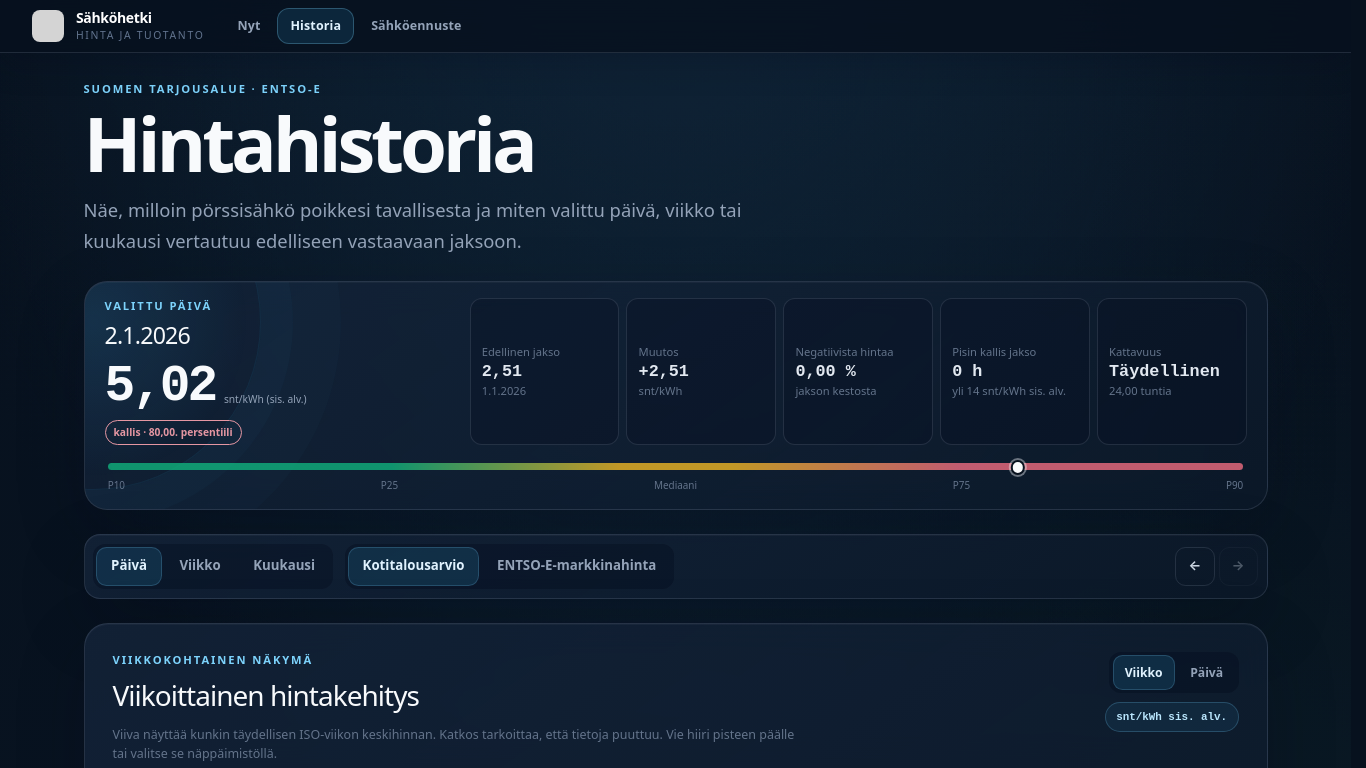
Scenario: switches price basis and period granularity without requesting more data
The image size is (1366, 768).
Click the button "ENTSO-E-markkinahinta": (577, 566) x1=482 y1=547 x2=671 y2=586
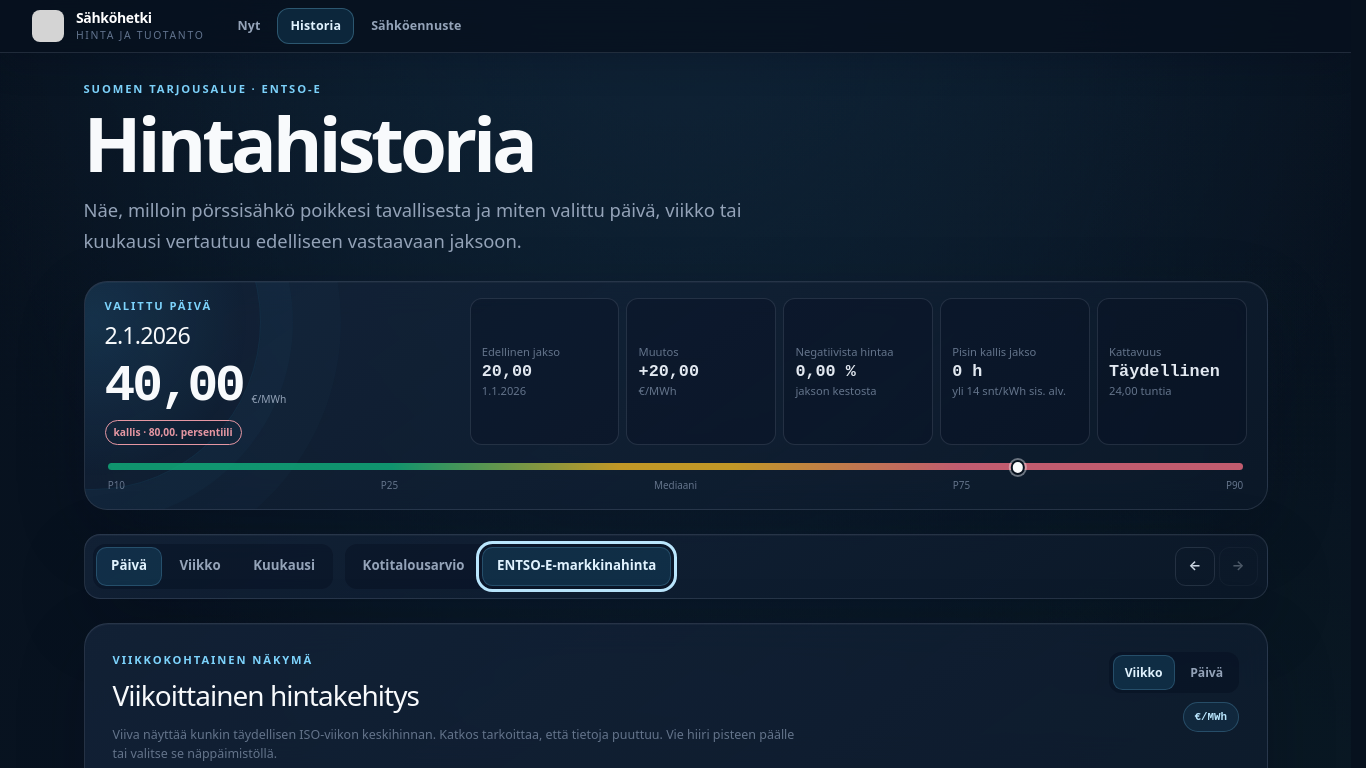
Now the element "2.1.2026" shows "40,00", box x1=104 y1=357 x2=243 y2=415
Now the text "€/MWh" next to "40,00" is shown, box x1=252 y1=392 x2=286 y2=406
Now the element "Viikoittainen hintakehitys" shows "€/MWh", box x1=1194 y1=711 x2=1227 y2=723
Click the 1st button "Viikko": (200, 566) x1=165 y1=547 x2=235 y2=586
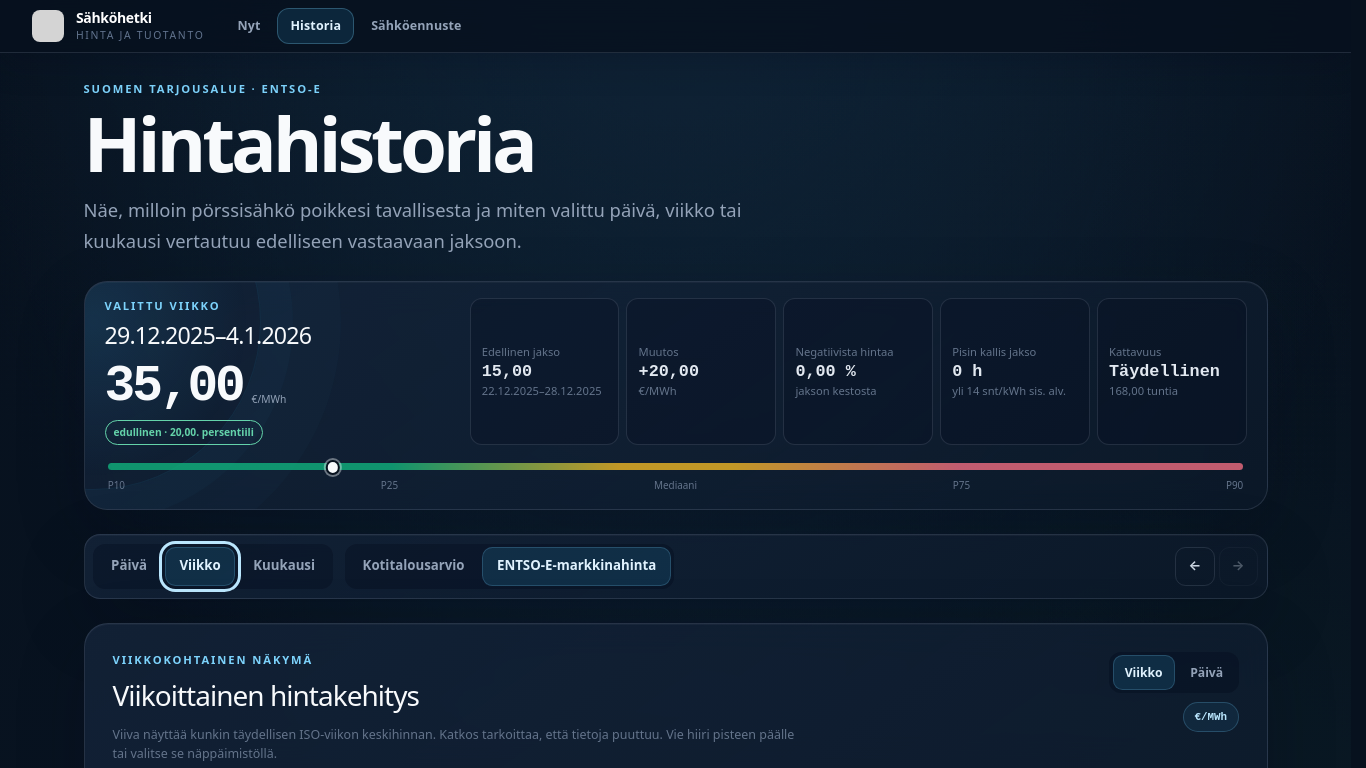
Now the heading "29.12.2025–4.1.2026" is shown, box x1=104 y1=319 x2=311 y2=351
Now the element "29.12.2025–4.1.2026" shows "35,00", box x1=104 y1=357 x2=243 y2=415
